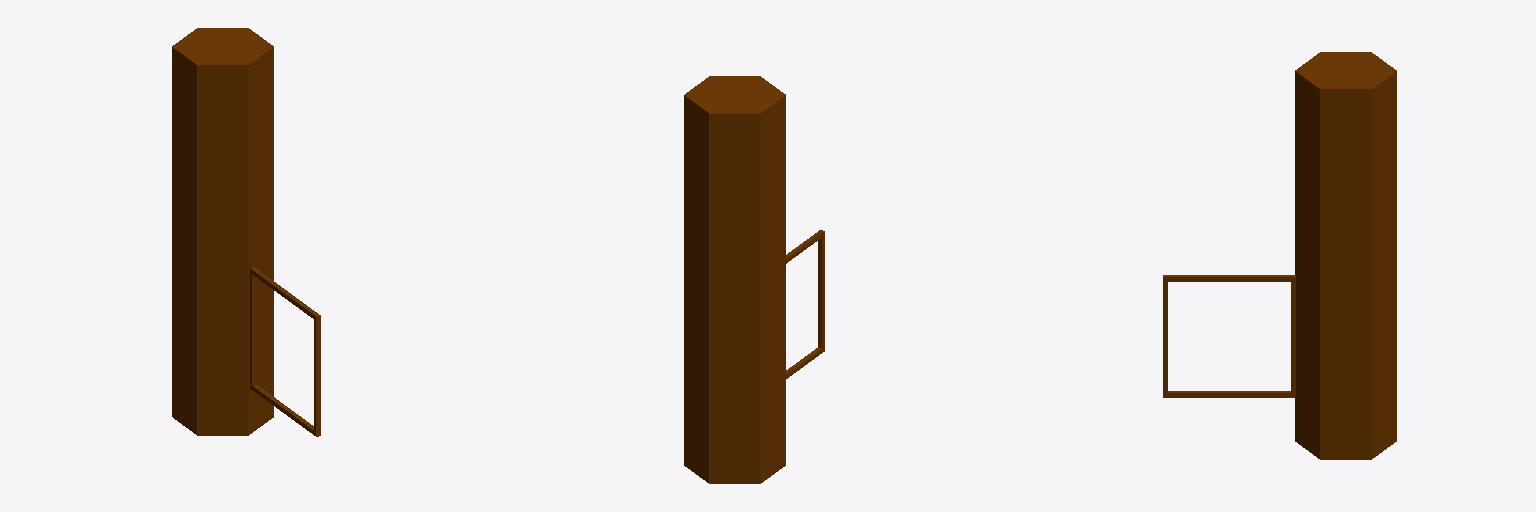
The model's file is gate2016_bigpole.obj.
3 views of the same model, side by side, from view 1: azimuth 30°, elevation 25°; view 2: azimuth 150°, elevation 25°; view 3: azimuth 270°, elevation 25° (orthographic).
Parts seen in each view (by area): view 1: POLYFACE.667, POLYFACE.010; view 2: POLYFACE.667, POLYFACE.010; view 3: POLYFACE.667, POLYFACE.010.
Part boxes in pixels (x1,y1,x2,y2): POLYFACE.667: (172, 28, 273, 435); POLYFACE.010: (250, 267, 320, 436); POLYFACE.667: (684, 76, 785, 483); POLYFACE.010: (786, 230, 824, 378); POLYFACE.667: (1295, 52, 1396, 459); POLYFACE.010: (1163, 275, 1295, 397).
Bounding box in the file's own units: 0.866 × 4 × 2.29.